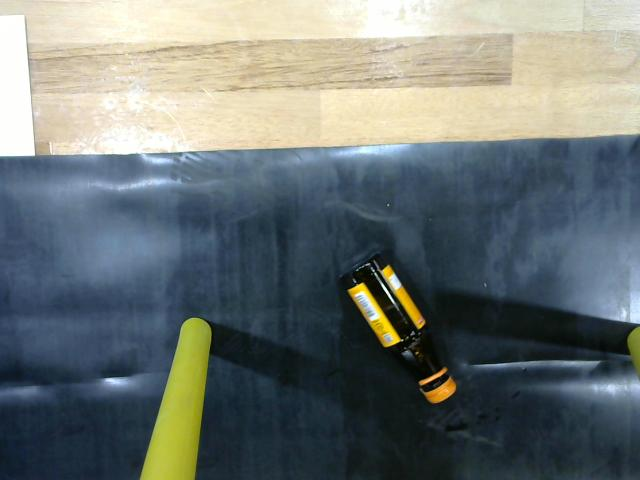glass: (339, 246, 466, 405)
